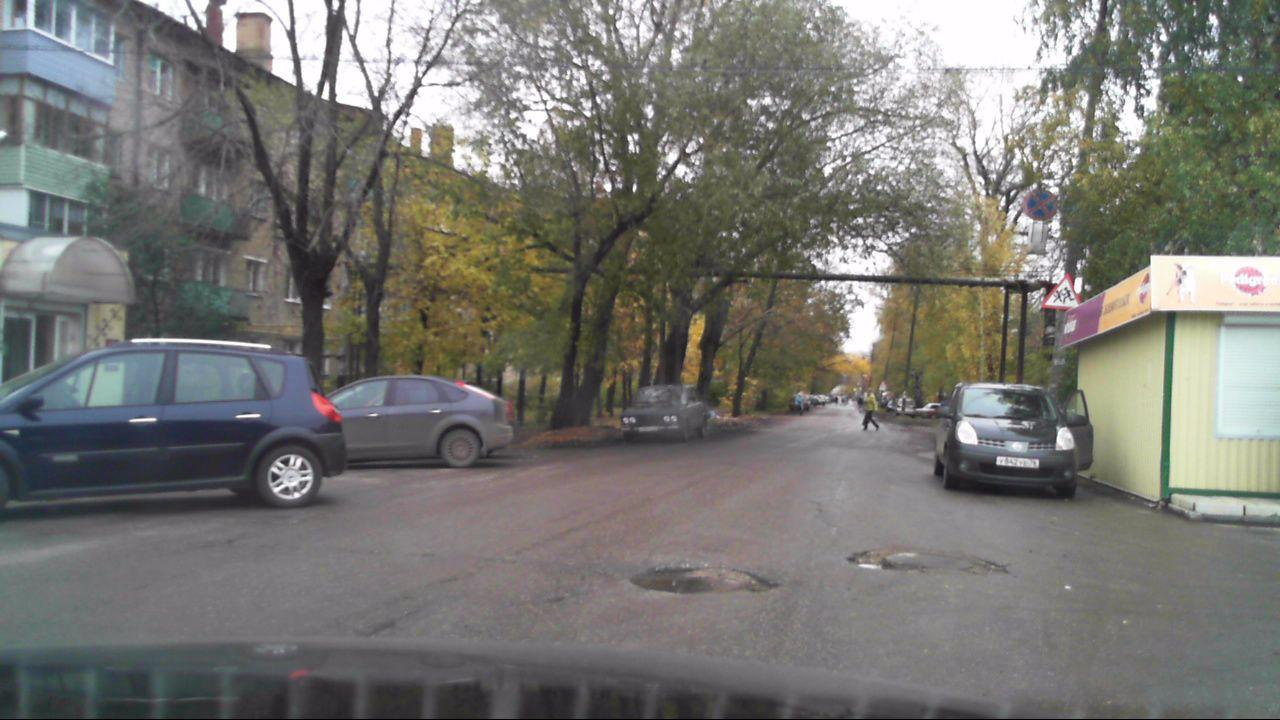pothole: (842, 541, 1004, 582), (624, 561, 785, 602)
